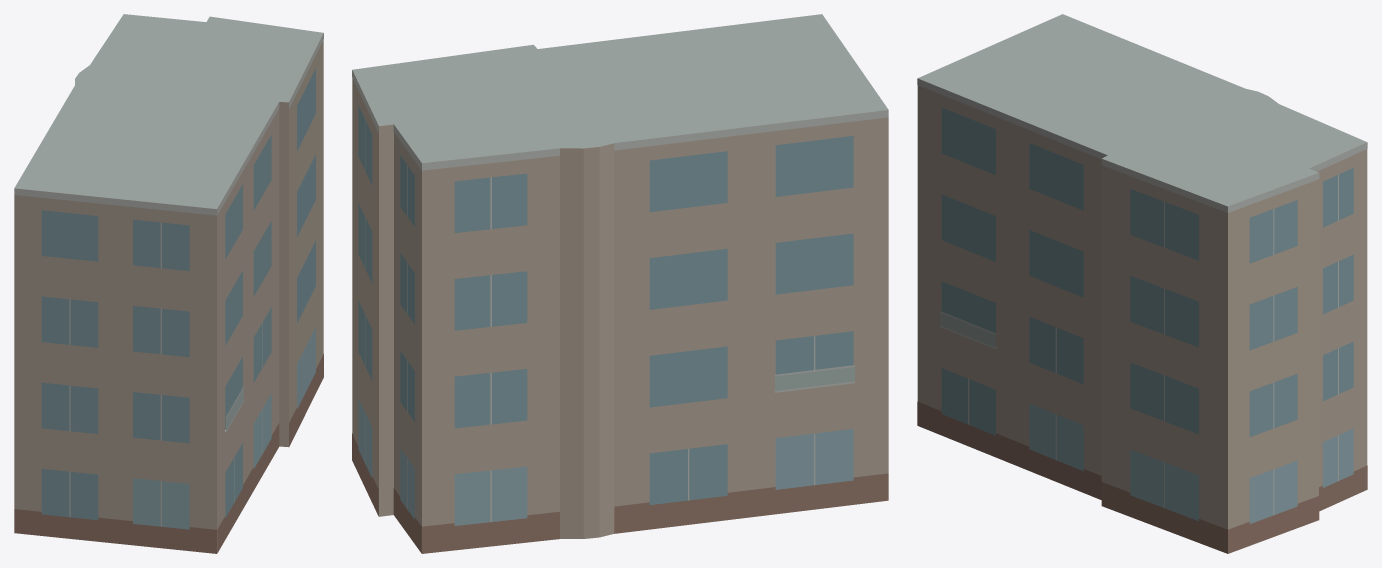
The model's file is survey-upis-32506486.glb.
3 renders of one model, left to right at view 1: azimuth 30°, elevation 25°; view 2: azimuth 150°, elevation 25°; view 3: azimuth 270°, elevation 25°, orthographic. The views are drawn at different scales.
Parts seen in each view (by area): view 1: survey-upis-32506486.tmp; view 2: survey-upis-32506486.tmp; view 3: survey-upis-32506486.tmp.
Boxes of the visible parts, x1,y1,x2,y2 form: survey-upis-32506486.tmp: (14, 14, 323, 553); survey-upis-32506486.tmp: (352, 14, 888, 553); survey-upis-32506486.tmp: (917, 14, 1367, 553).
Bounding box in the file's own units: 15.34 × 12.9 × 15.15.
